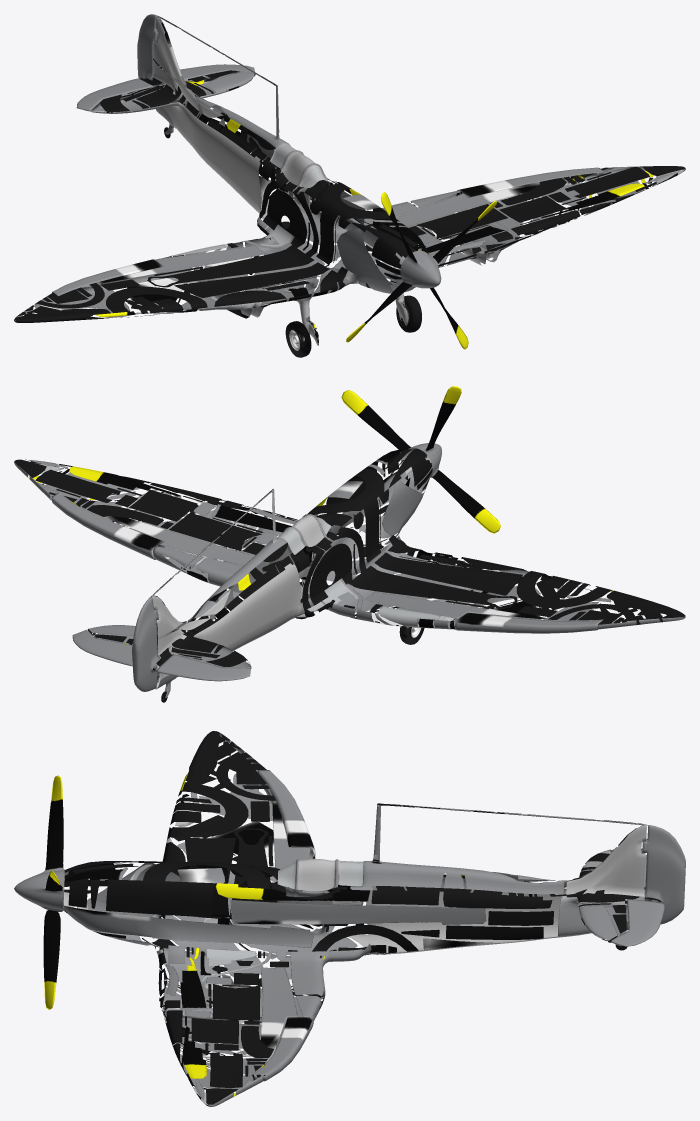
The model's file is spitfirev6.fbx.
3 views of the same model, one above another, from view 1: azimuth 30°, elevation 25°; view 2: azimuth 150°, elevation 25°; view 3: azimuth 270°, elevation 25° (orthographic). The views are drawn at different scales.
Parts seen in each view (by area): view 1: gövde; view 2: gövde; view 3: gövde.
Boxes of the visible parts, x1,y1,x2,y2 form: gövde: [14, 14, 685, 357]; gövde: [14, 386, 685, 702]; gövde: [14, 731, 685, 1106].
Size of the model in its own units: 3319 by 975 by 2589.
